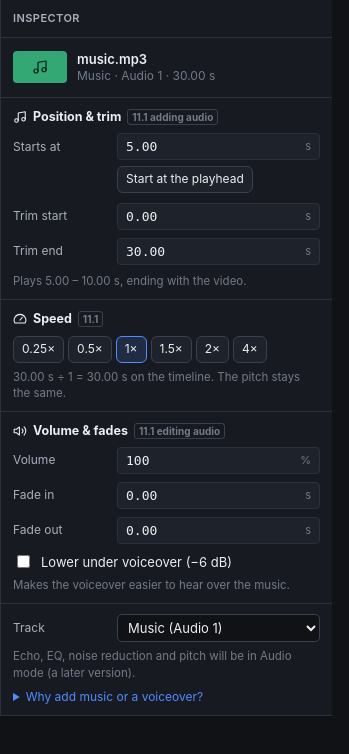
Test case: V13 audio inspector (screen 08) › explains a volume it cannot use, and changes nothing
Replace the text in the field labelled "Volume" with "300" at [213, 461], box x1=126 y1=448 x2=300 y2=473
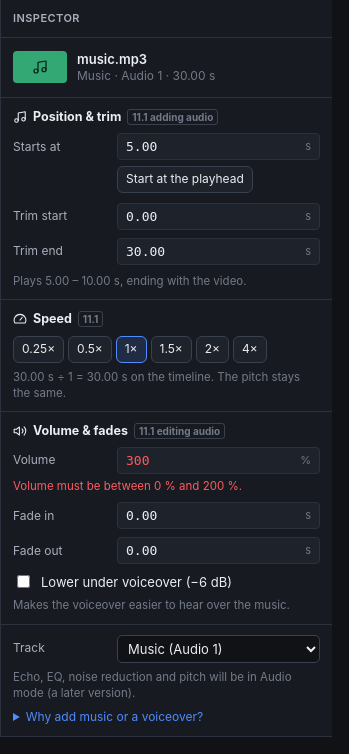
Result: the message shows "0 % and 200 %" at x1=13 y1=479 x2=242 y2=493
